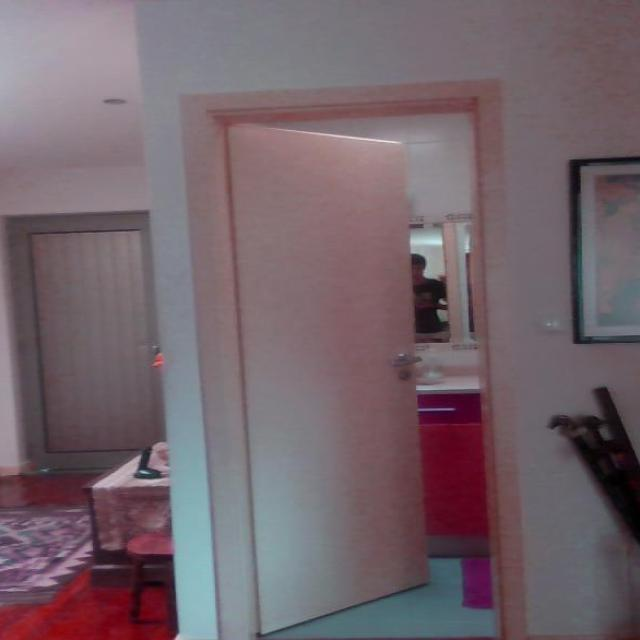door: (222, 120, 431, 634)
